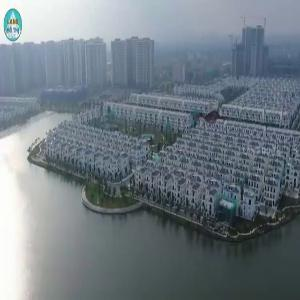drone: (194, 99, 233, 138)
